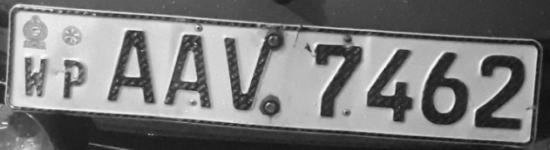2: (471, 48, 529, 138)
4: (366, 44, 417, 130)
6: (417, 46, 472, 132)
7: (307, 38, 367, 126)
A: (99, 25, 161, 110), (159, 28, 217, 114)
P: (57, 55, 93, 102)
V: (221, 32, 282, 121)
W: (19, 52, 54, 98)
